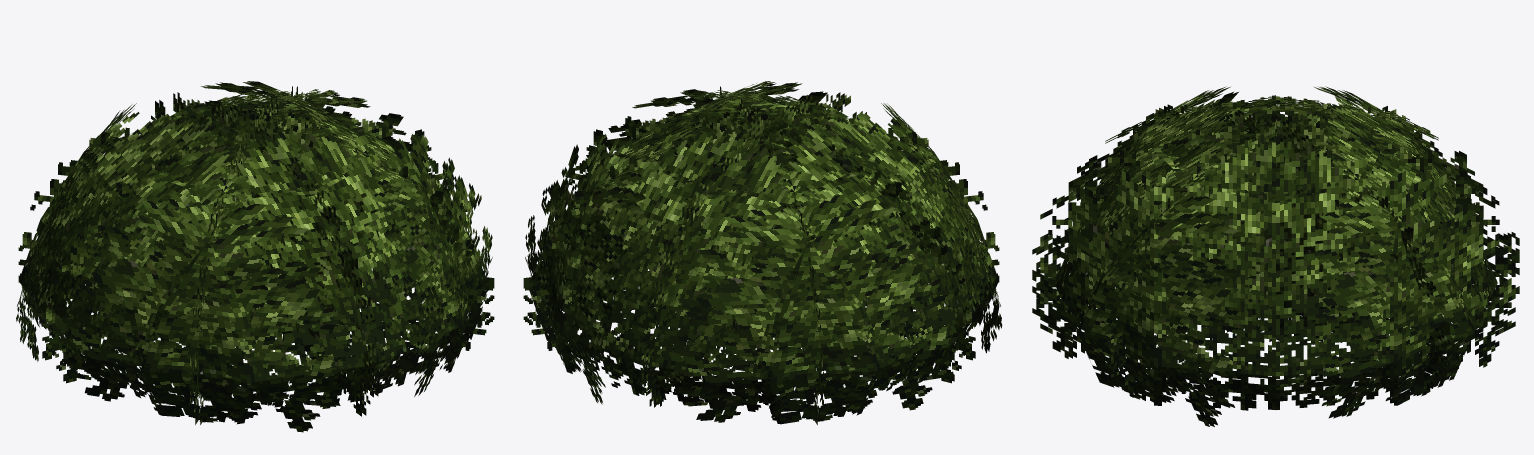
The model's file is bush06_summer.glb.
3 renders of one model, left to right at view 1: azimuth 30°, elevation 25°; view 2: azimuth 150°, elevation 25°; view 3: azimuth 270°, elevation 25°, orthographic.
Visible parts, largest first — view 1: bush06; view 2: bush06; view 3: bush06.
Boxes of the visible parts, bbox=[...] form: bush06: bbox=[16, 81, 494, 432]; bush06: bbox=[523, 81, 1002, 424]; bush06: bbox=[1032, 86, 1519, 426].
Bounding box in the file's own units: 3 × 1.5 × 3.
1 material, 1 textured.
